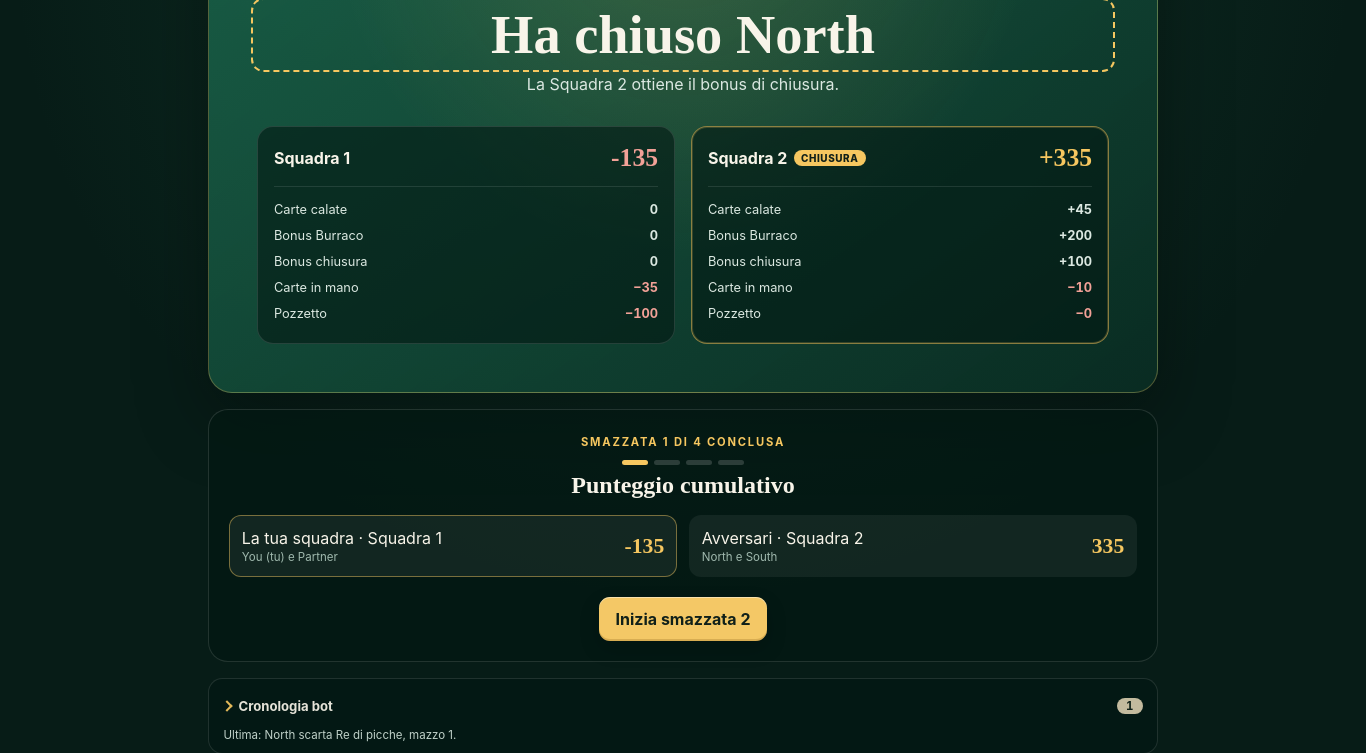
GameTable round starter rotation › starts smazzata 2 on North and step-plays it through the existing playback
Later steps or results of the test are not shown.
(page scrolled)
expect the heading "Ha chiuso North" is shown: met, box [491,5,875,65]
What coordinates should you click on to do the following:
click the button "Inizia smazzata 2"
I would click on:
 (683, 619)
Its box is [599,597,767,641].
Wait 900 ms
(page scrolled)
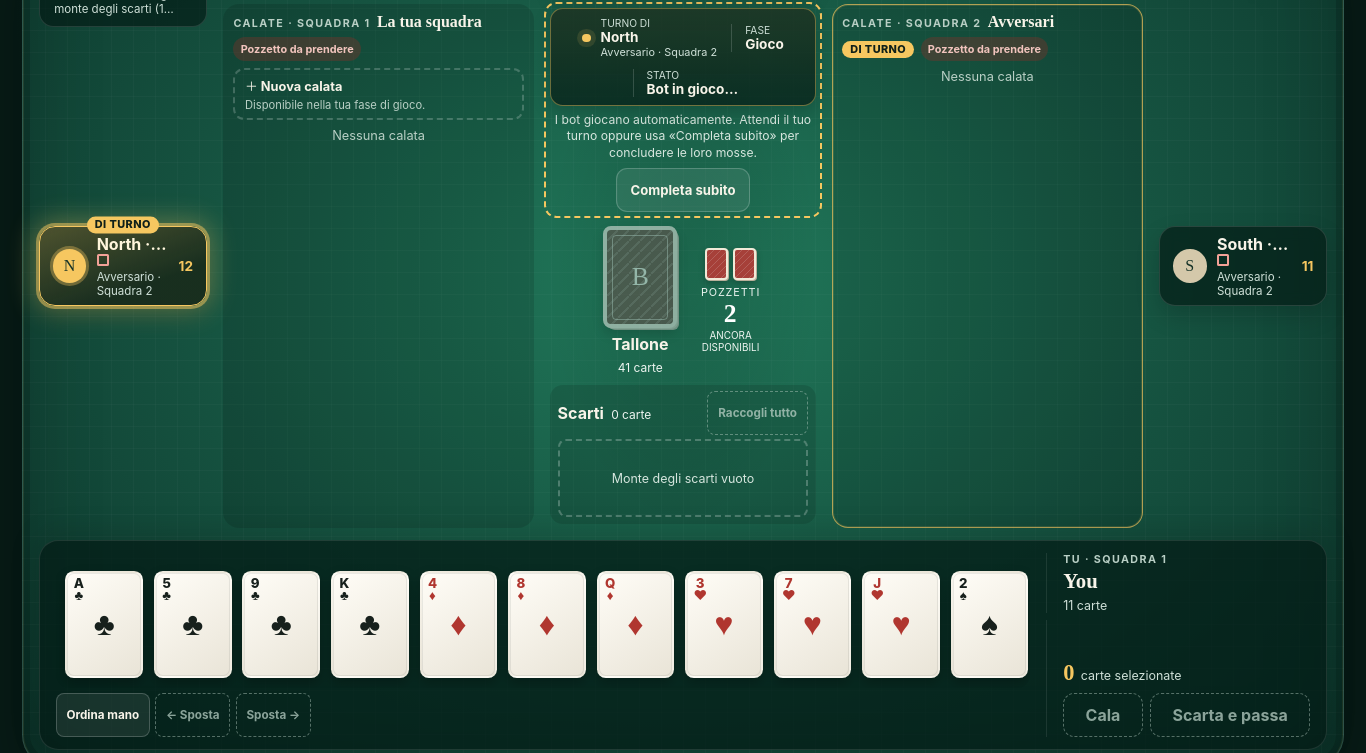
expect the text "Pesca" is shown: met, box [745,36,784,52]
expect the text "Bot in gioco…" is shown: met, box [647,81,738,97]
